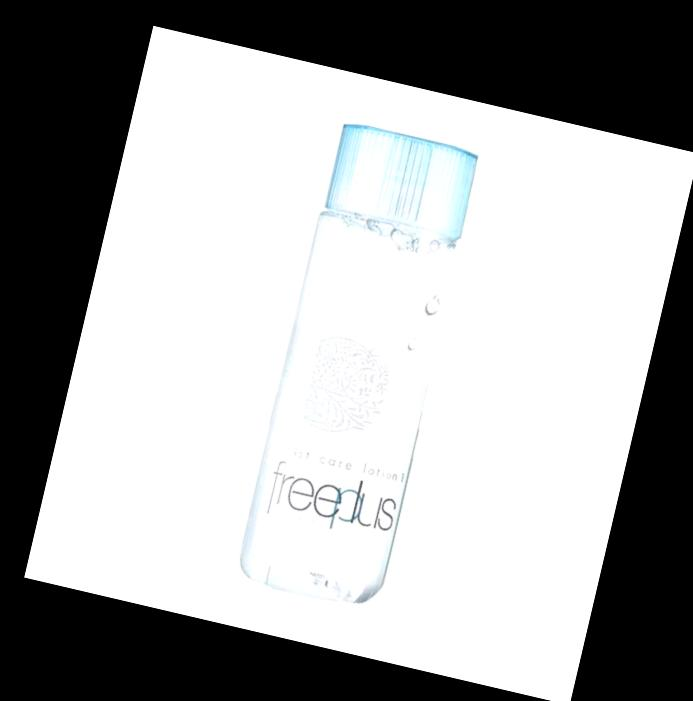cosmetic: (236, 125, 484, 614)
